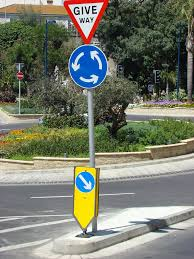giveway: (60, 1, 112, 48)
